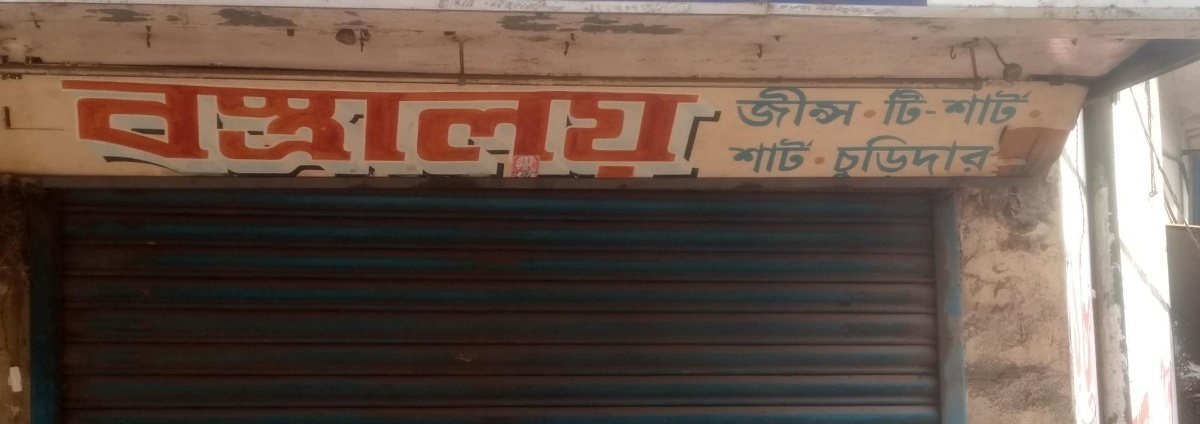text: (49, 72, 64, 189), (65, 72, 80, 189), (81, 72, 96, 189), (97, 72, 112, 189), (113, 72, 128, 189), (129, 72, 144, 189), (145, 72, 160, 189), (161, 72, 176, 189), (177, 72, 192, 189), (193, 72, 208, 189), (209, 72, 224, 189), (225, 72, 240, 189), (241, 72, 256, 189), (257, 72, 272, 189), (273, 72, 288, 189), (289, 72, 304, 189), (305, 72, 320, 189), (321, 72, 336, 189), (337, 72, 352, 189), (353, 72, 368, 189), (369, 72, 384, 189), (385, 72, 400, 189), (401, 72, 416, 189), (417, 72, 432, 189), (433, 72, 448, 189), (449, 72, 464, 189), (465, 72, 480, 189), (481, 72, 496, 189), (497, 72, 512, 189), (513, 72, 528, 189), (529, 72, 544, 189), (545, 72, 560, 189), (561, 72, 576, 189), (577, 72, 592, 189), (593, 72, 608, 189), (609, 72, 624, 189), (625, 72, 640, 189), (641, 72, 656, 189), (657, 72, 672, 189), (673, 72, 688, 189), (689, 72, 704, 189), (705, 72, 720, 189), (721, 72, 729, 189), (881, 84, 896, 138), (897, 84, 912, 138), (913, 84, 928, 138), (929, 84, 944, 138), (945, 84, 960, 138), (961, 84, 976, 138), (977, 84, 992, 138), (993, 84, 1008, 138), (1009, 84, 1024, 138), (849, 82, 865, 132), (737, 82, 752, 132), (753, 82, 768, 132), (769, 82, 784, 132), (785, 82, 800, 132), (801, 82, 816, 132), (817, 82, 832, 132), (833, 82, 848, 132), (833, 133, 848, 181), (849, 133, 864, 181), (865, 133, 880, 181), (881, 133, 896, 181), (897, 133, 912, 181), (913, 133, 928, 181), (929, 133, 944, 181), (945, 133, 960, 181), (961, 133, 976, 181), (977, 133, 992, 181), (1025, 84, 1038, 138), (737, 133, 752, 177), (753, 133, 768, 177), (769, 133, 784, 177), (785, 133, 800, 177), (801, 133, 816, 177), (727, 133, 736, 177), (993, 133, 1000, 181), (734, 82, 736, 132), (831, 133, 832, 181)
